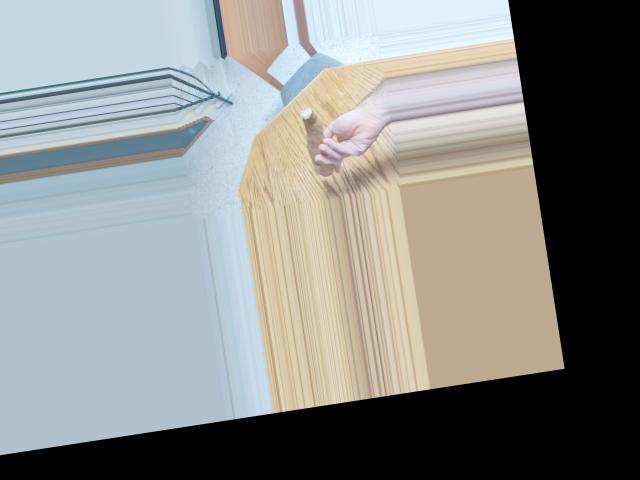sweet_potato: (299, 99, 332, 178)
